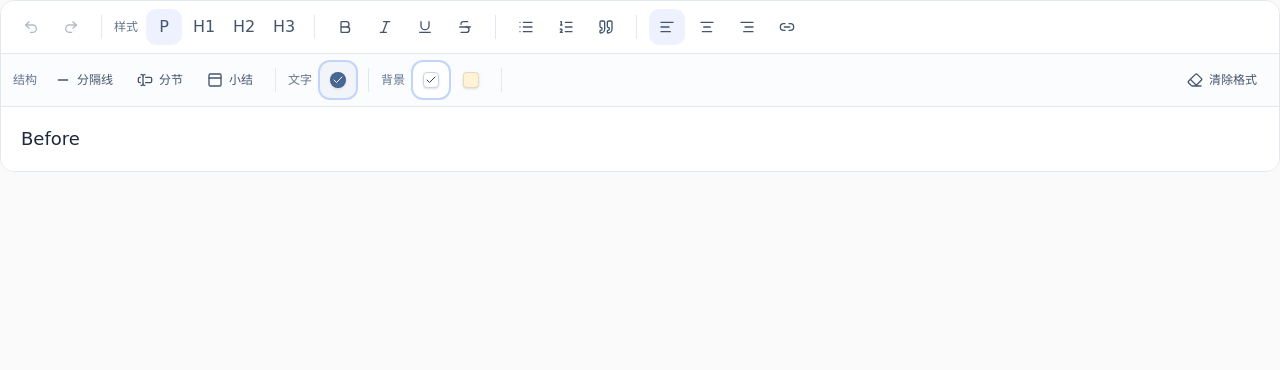
Scenario: shared simple editor › inserts plain and titled section dividers as valid structured nodes
Click the button with aria-label "插入分隔线": x=84, y=80 top-left (45, 62), bottom-right (123, 98)
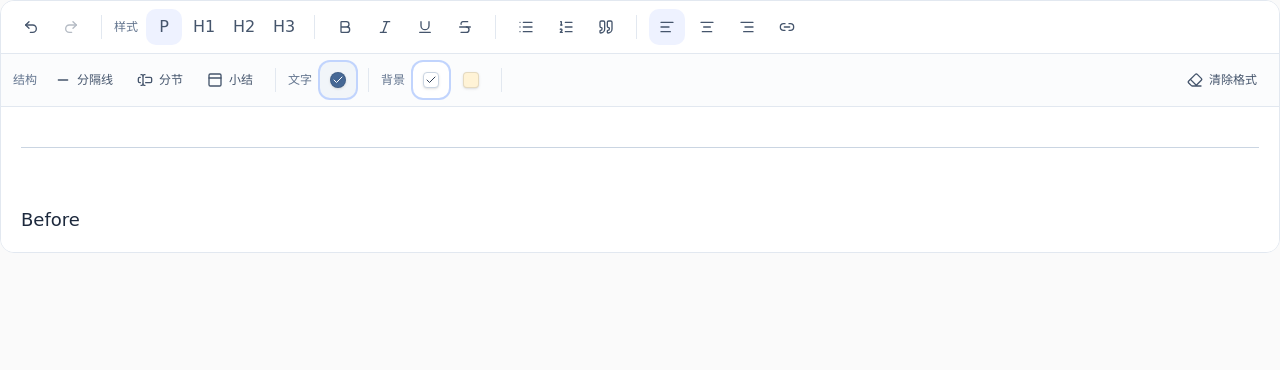
Click the button with aria-label "插入带标题分节": x=160, y=80 top-left (127, 62), bottom-right (193, 98)
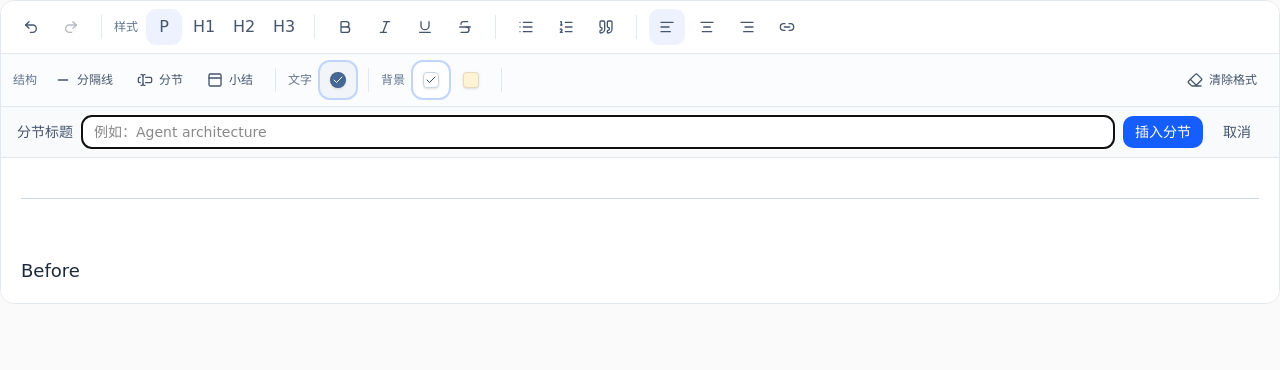
In the field labelled "分节标题": x=598, y=132 top-left (81, 115), bottom-right (1115, 149), type "Agent architecture"
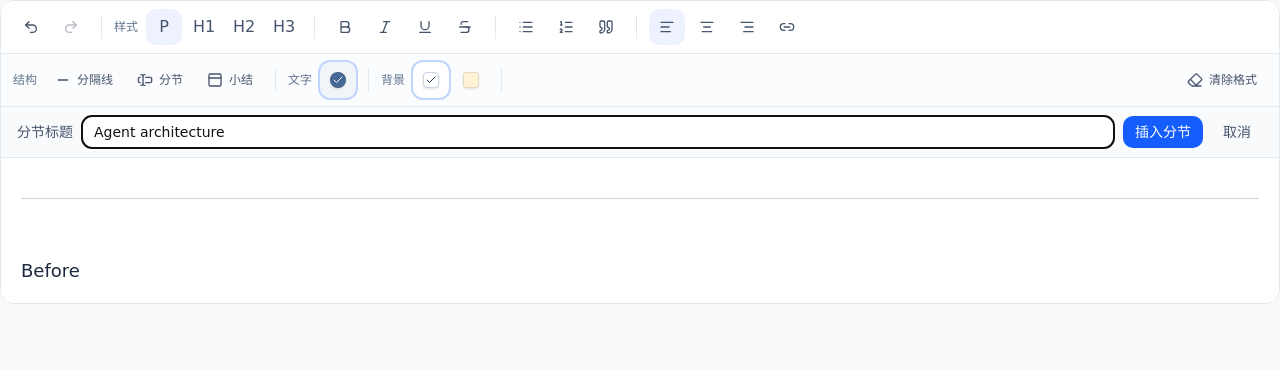
Click the button "插入分节": x=1163, y=132 top-left (1123, 116), bottom-right (1203, 148)
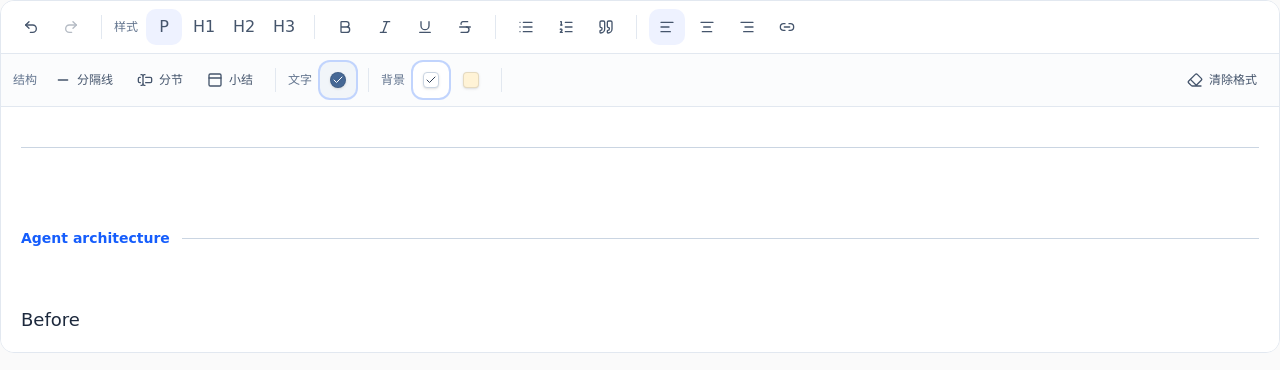
Check: the element showing "Agent architecture" is shown, box top-left (21, 230), bottom-right (170, 246)
